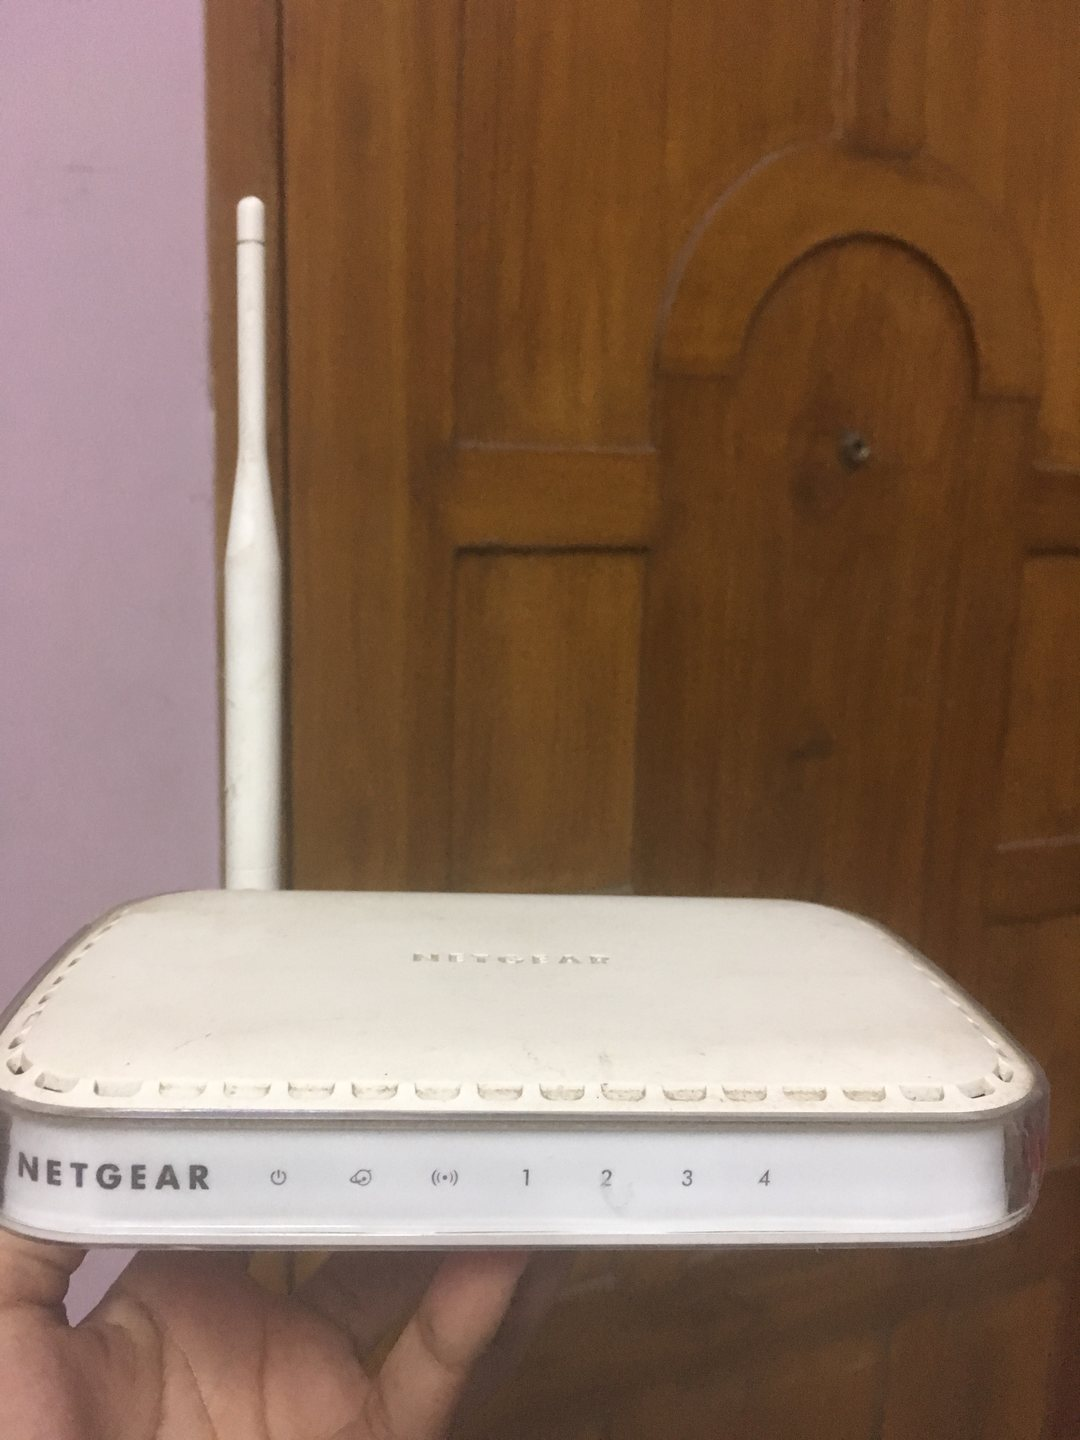NETGEAR: (12, 1147, 216, 1197)
modem: (5, 1073, 1043, 1247)
